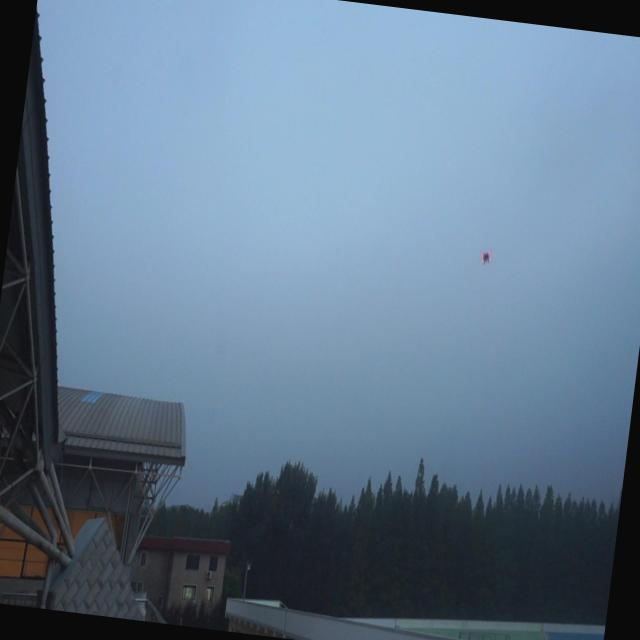drone: (476, 246, 496, 268)
